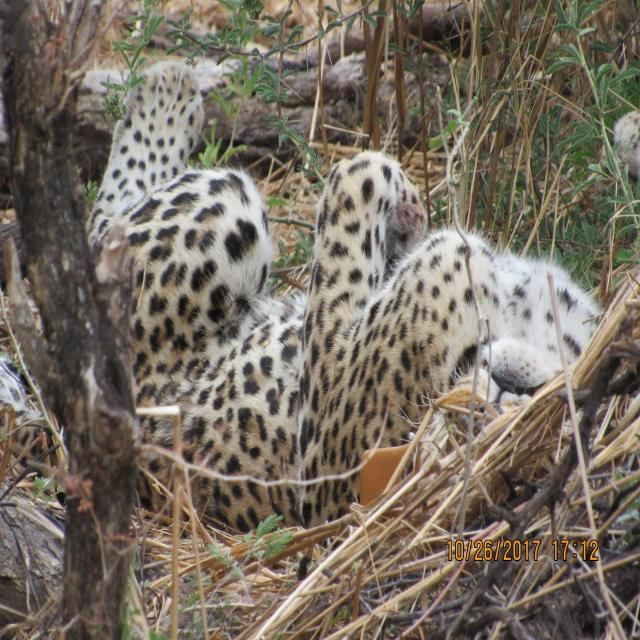Leopard: (0, 46, 621, 551)
